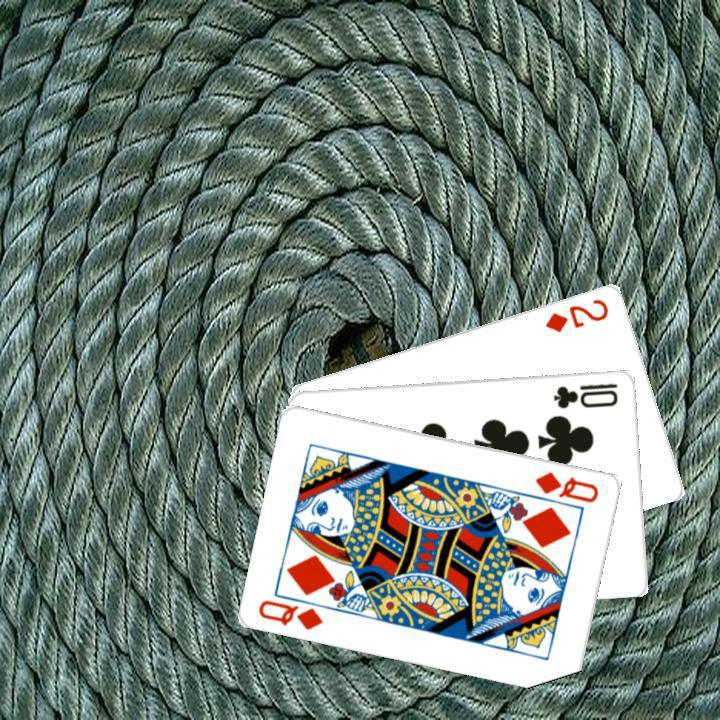10: (549, 378, 621, 410)
2: (541, 294, 611, 334)
Q: (531, 466, 601, 505), (254, 595, 326, 632)
